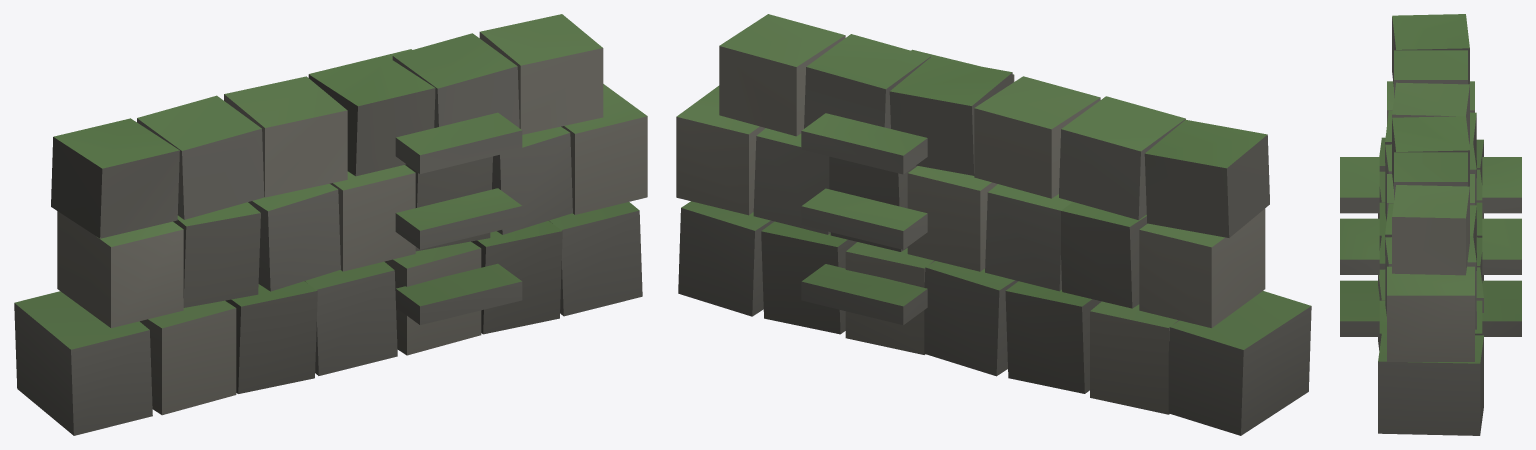
File: temperate_rock_c.glb
3 renders of one model, left to right at view 1: azimuth 30°, elevation 25°; view 2: azimuth 150°, elevation 25°; view 3: azimuth 270°, elevation 25°, orthographic. The views are drawn at different scales.
Parts seen in each view (by area): view 1: temperate_rock_c; view 2: temperate_rock_c; view 3: temperate_rock_c.
Boxes of the visible parts, x1,y1,x2,y2 form: temperate_rock_c: [14, 14, 647, 435]; temperate_rock_c: [676, 14, 1311, 435]; temperate_rock_c: [1340, 14, 1521, 435].
Size of the model in its own units: 1.91 by 0.7988 by 0.6332.
